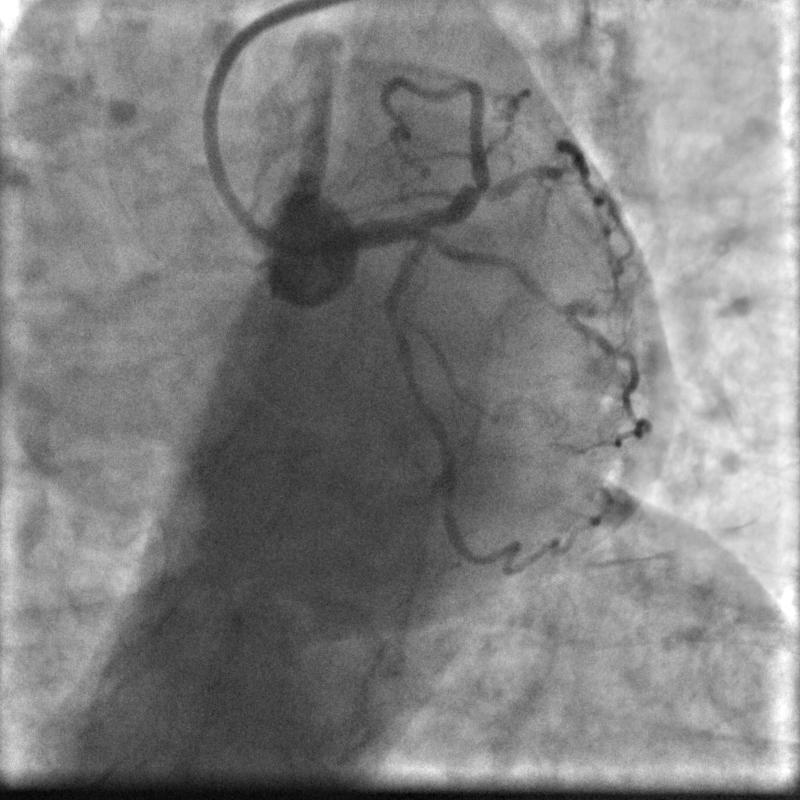Stenosis: (379, 304, 413, 338)
